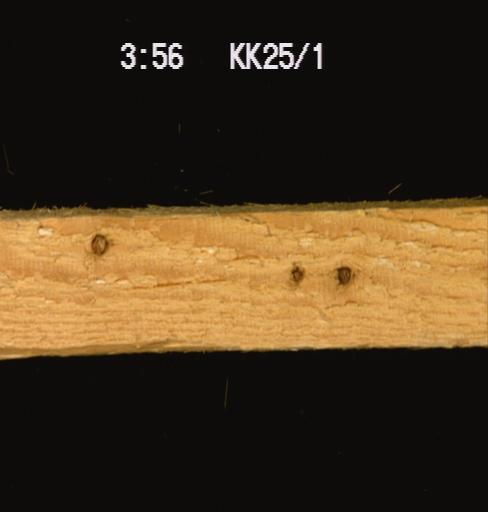dry_knot: (88, 231, 108, 256), (289, 260, 305, 282), (335, 264, 351, 285)
split: (110, 270, 234, 290)
wave: (0, 330, 176, 356)
